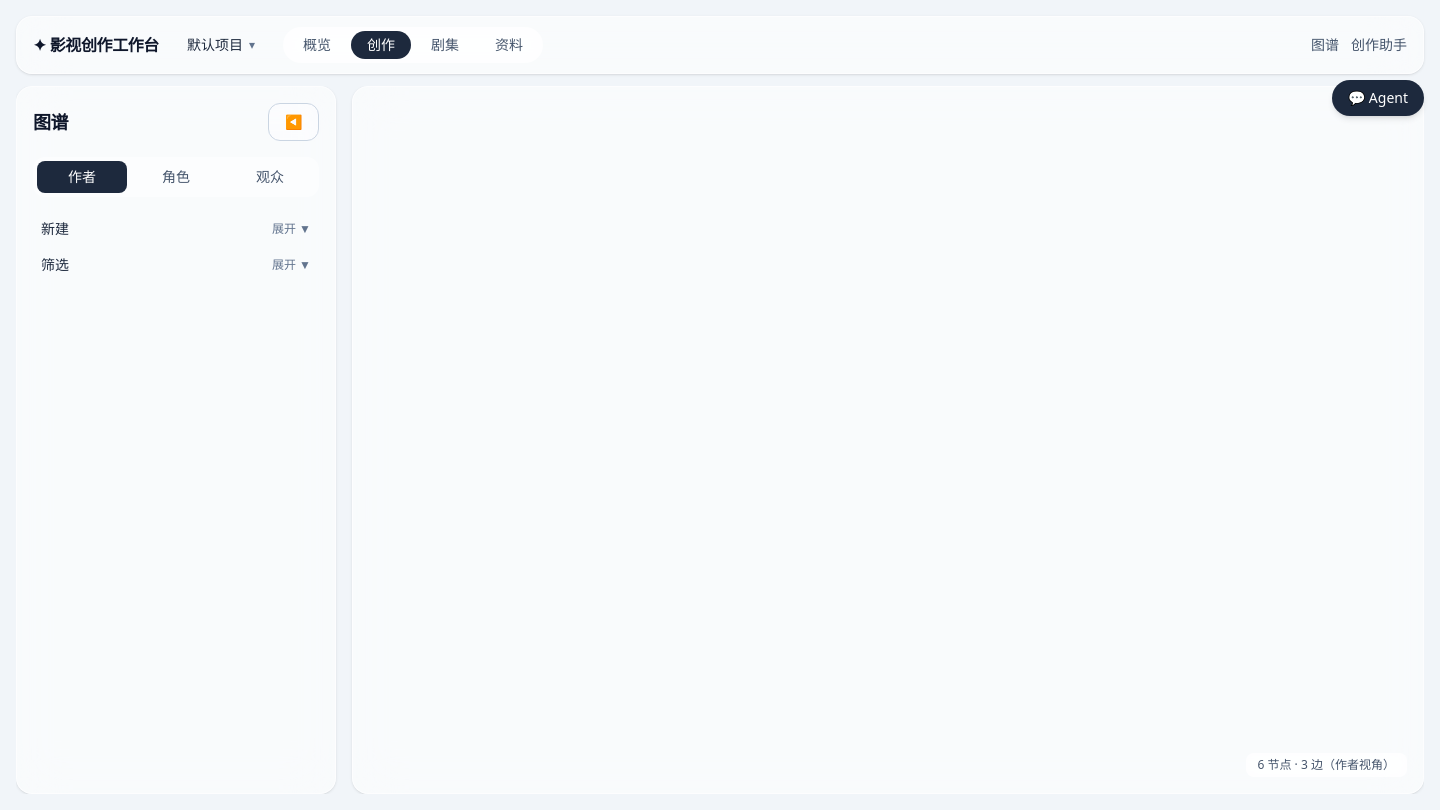
Test: Workbench 集成（I1–I8） › I3: 新建实体（合法最小输入）→ POST 201 → 图刷新为 7 节点
Expected: the text with test id "graph-stats" shows "6 节点 · 3 边", [1246,753,1407,777]
Click the button "新建 展开 ▼": click(292, 228) [33,213,319,245]
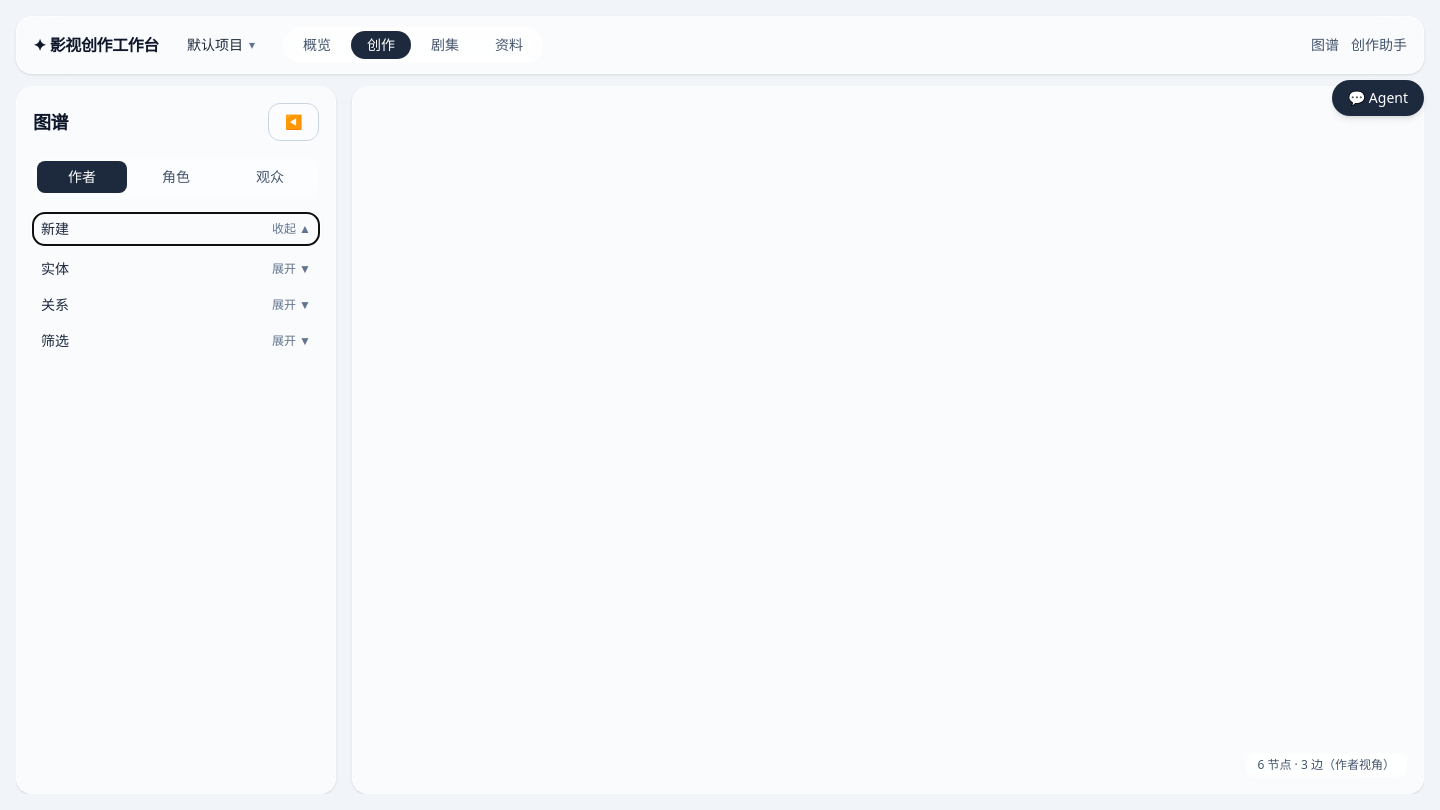
Click the button "实体 展开 ▼": click(292, 268) [33,253,319,285]
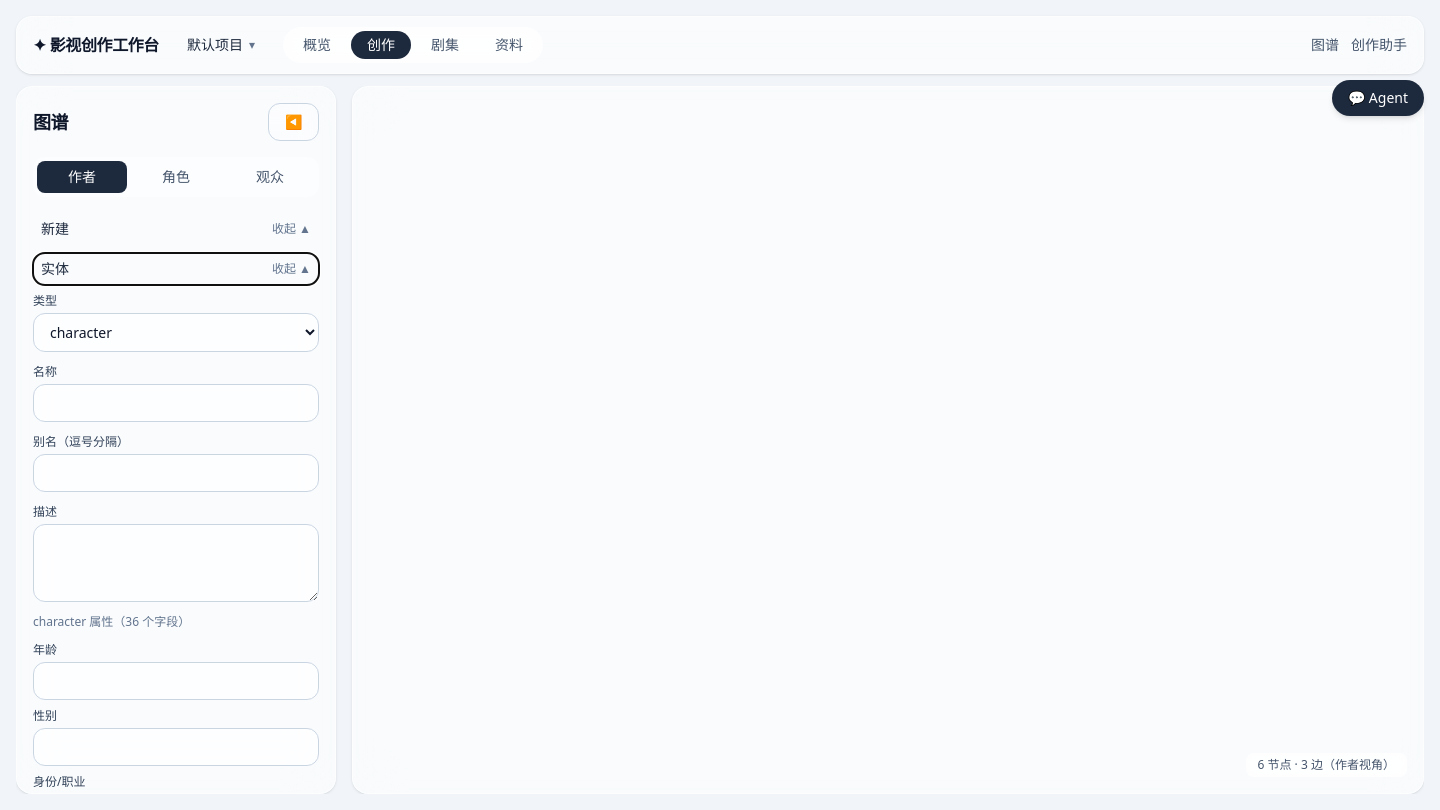
In the field labelled "名称": (176, 403) [33,384,319,422], type "顾"
(page scrolled)
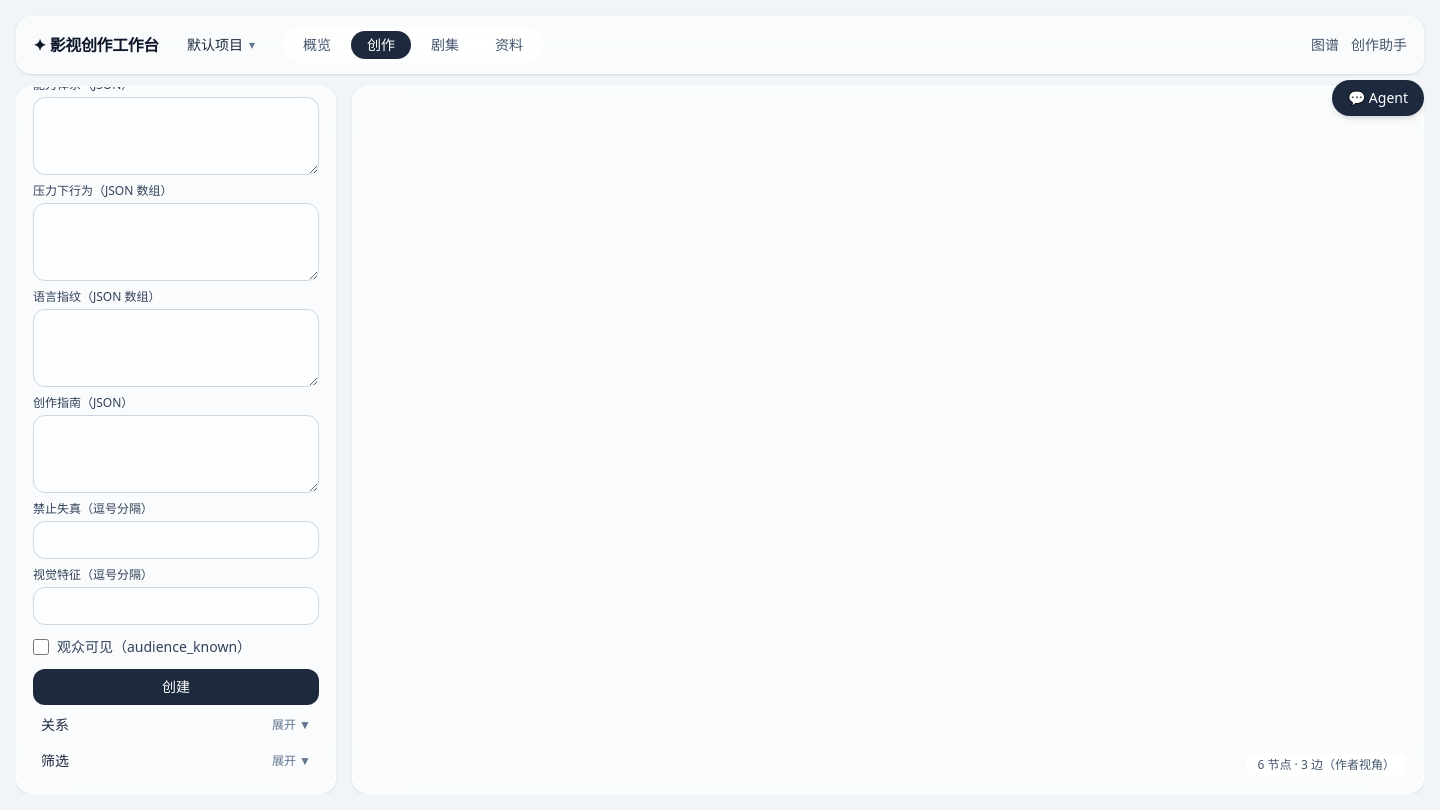
Click the button "创建": click(176, 687) [33,669,319,705]
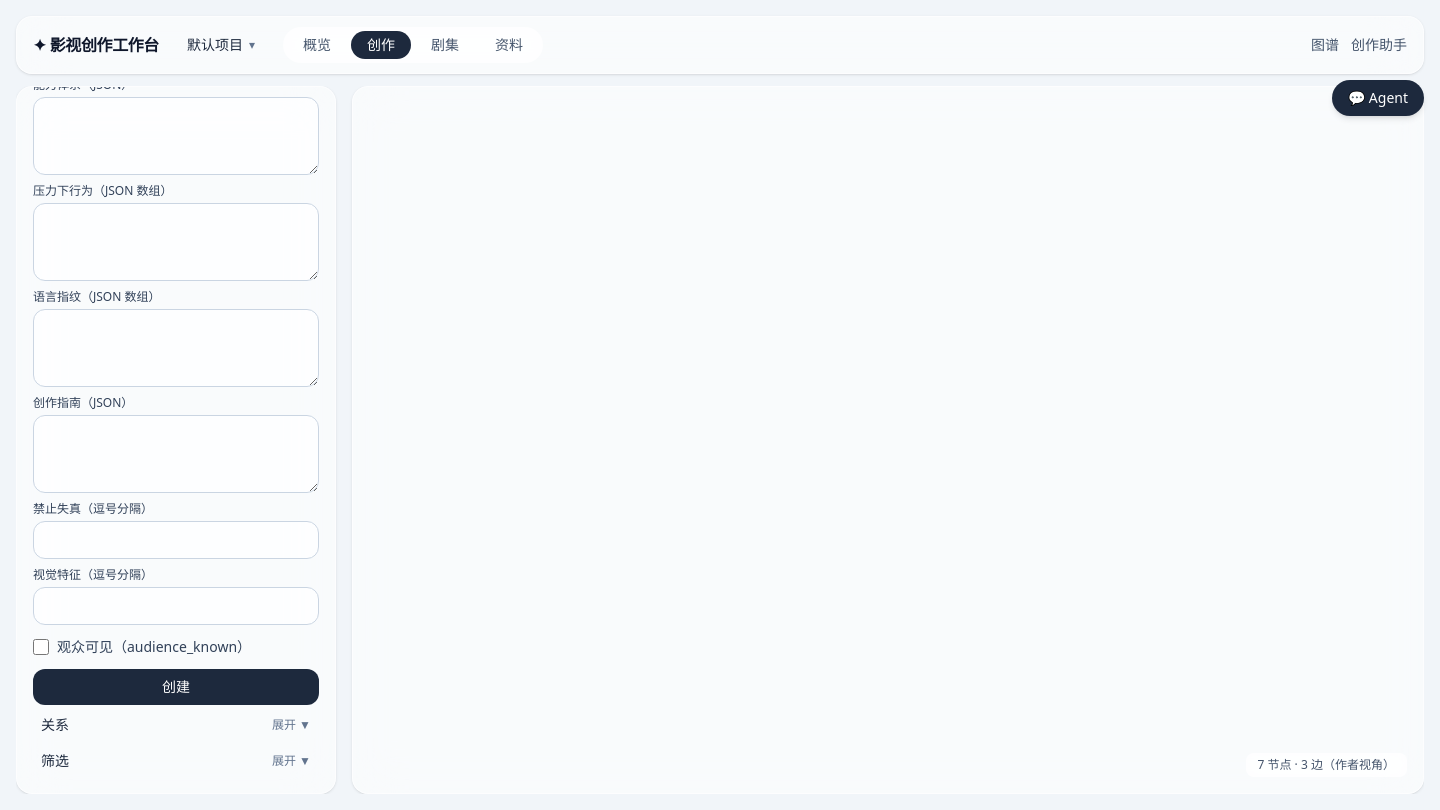
Now the text with test id "graph-stats" shows "7 节点", box [1246,753,1407,777]
